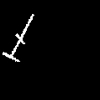double_crochet: (3, 14, 33, 61)
